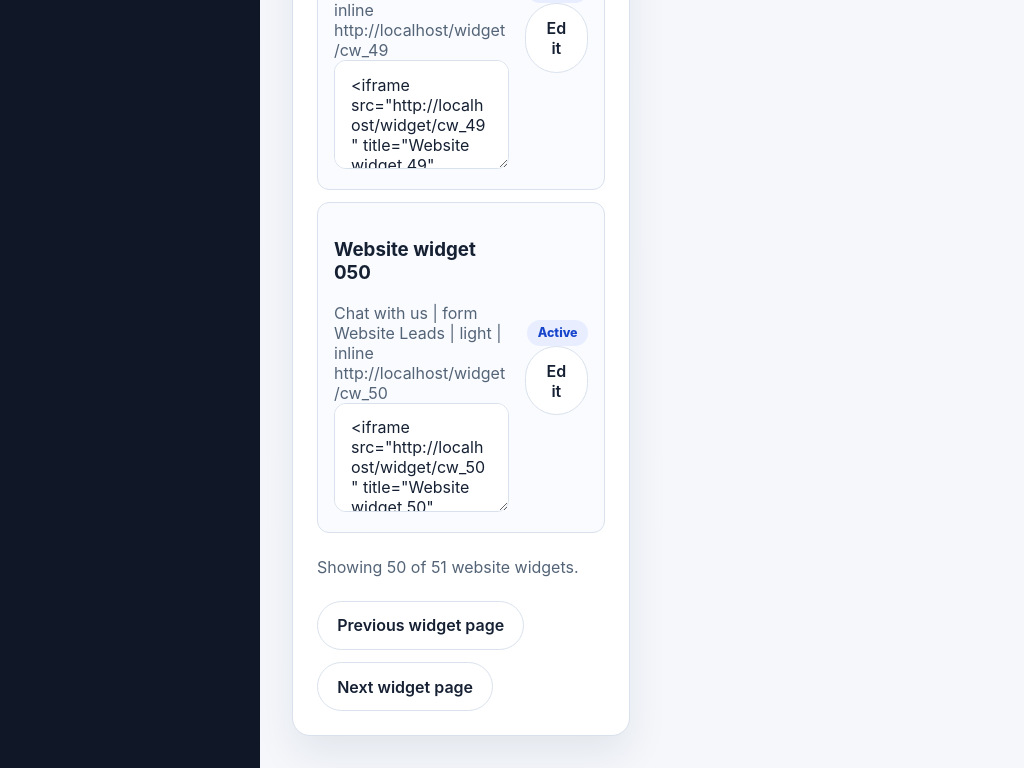
Test: settings lead widgets route › loads row 51 through exact accessible continuation
(page scrolled)
Expected: the text "Showing 50 of 51 website widgets." is shown, [317, 557, 605, 577]
Expected: the heading "Website widget 051" is not shown
What coordinates should you click on to do the following:
click the button "Next widget page"
I would click on:
 (405, 687)
Its box is [317, 662, 493, 711].
(page scrolled)
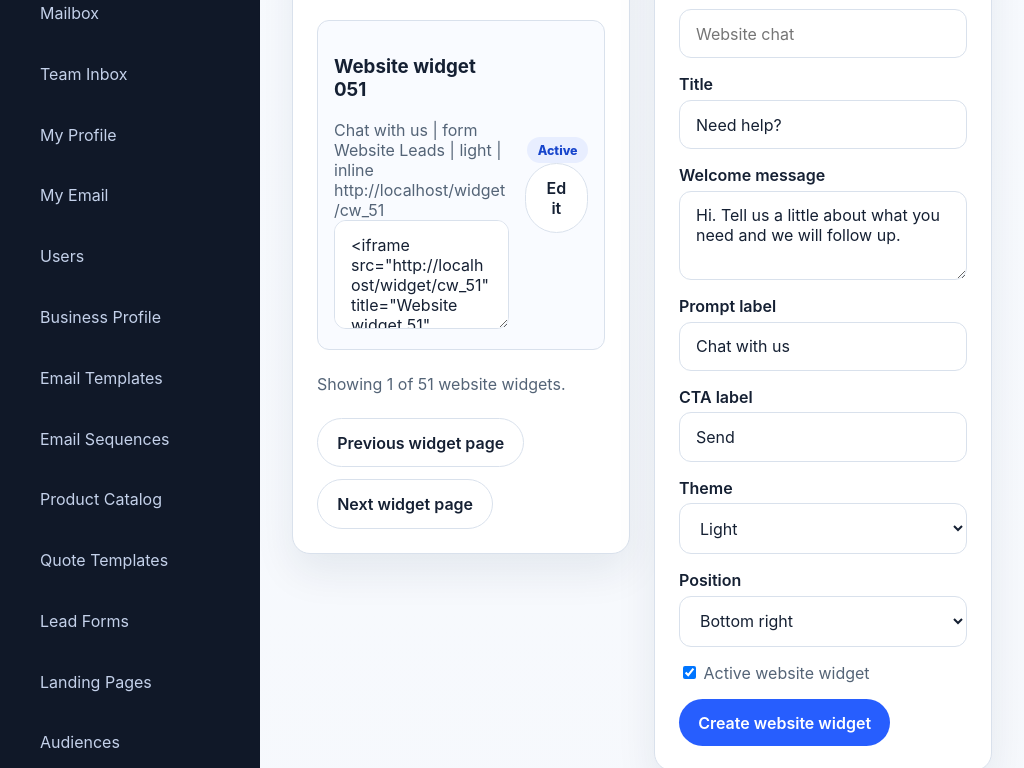
Result: the heading "Website widget 051" is shown at [334, 55, 476, 101]
Result: the text "Showing 1 of 51 website widgets." is shown at [317, 374, 605, 394]
